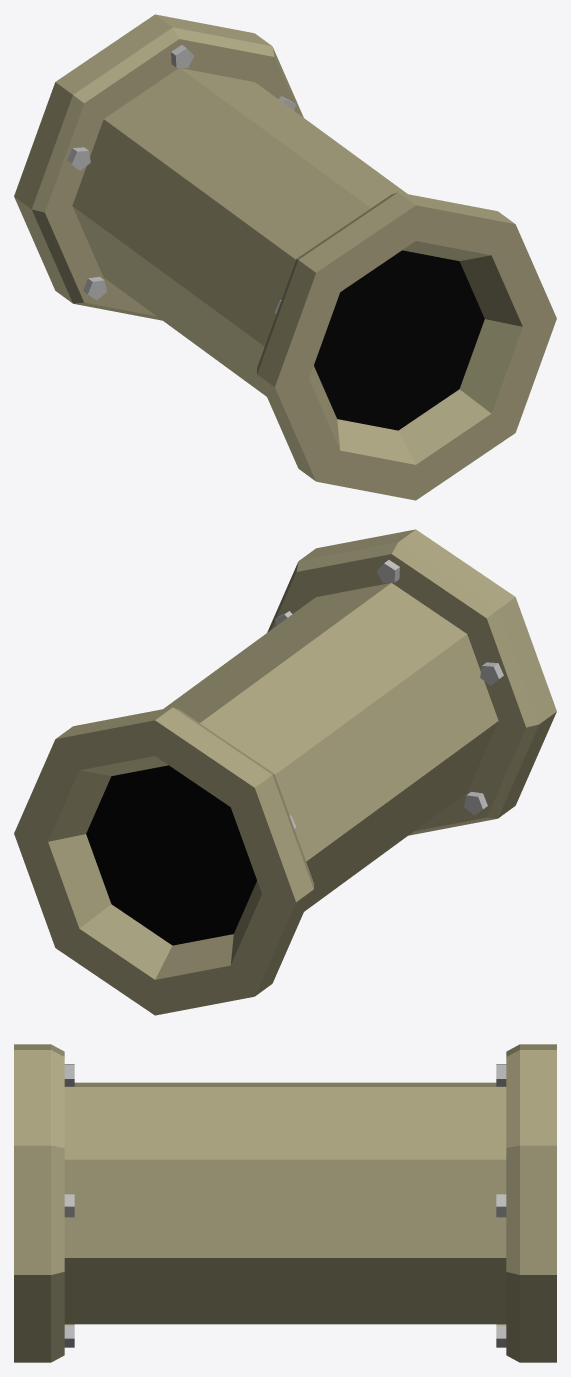
Rendered from Pipe Short.glb.
3 renders of one model, top to bottom at view 1: azimuth 30°, elevation 25°; view 2: azimuth 150°, elevation 25°; view 3: azimuth 270°, elevation 25°, orthographic. The views are drawn at different scales.
Visible parts, largest first — view 1: ShortPipe; view 2: ShortPipe; view 3: ShortPipe.
Part boxes in pixels (box(x1,y1,x2,y2)): ShortPipe: box(14, 14, 556, 500); ShortPipe: box(14, 529, 556, 1015); ShortPipe: box(14, 1044, 556, 1362).
Bounding box in the file's own units: 2.64 × 2.64 × 4.22.
